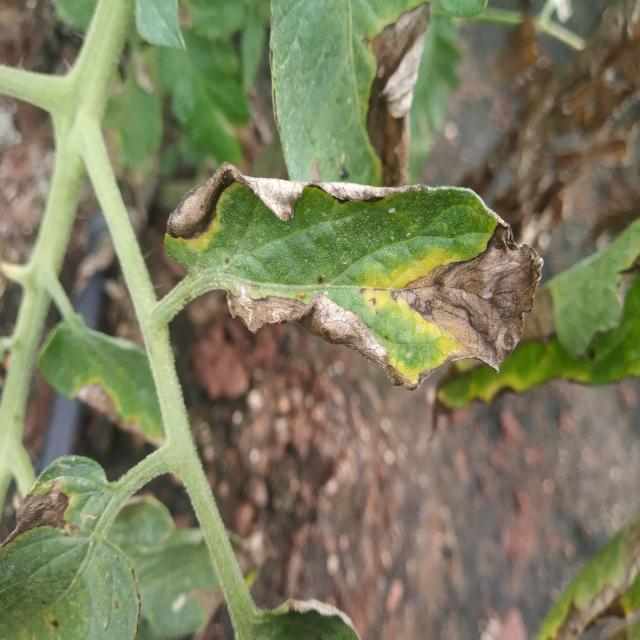Early Blight: (150, 91, 402, 479)
